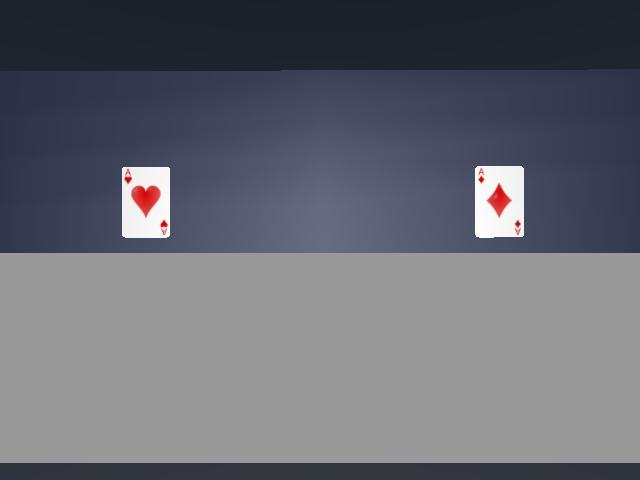diamond: (475, 166, 524, 237)
heart: (121, 167, 170, 237)
